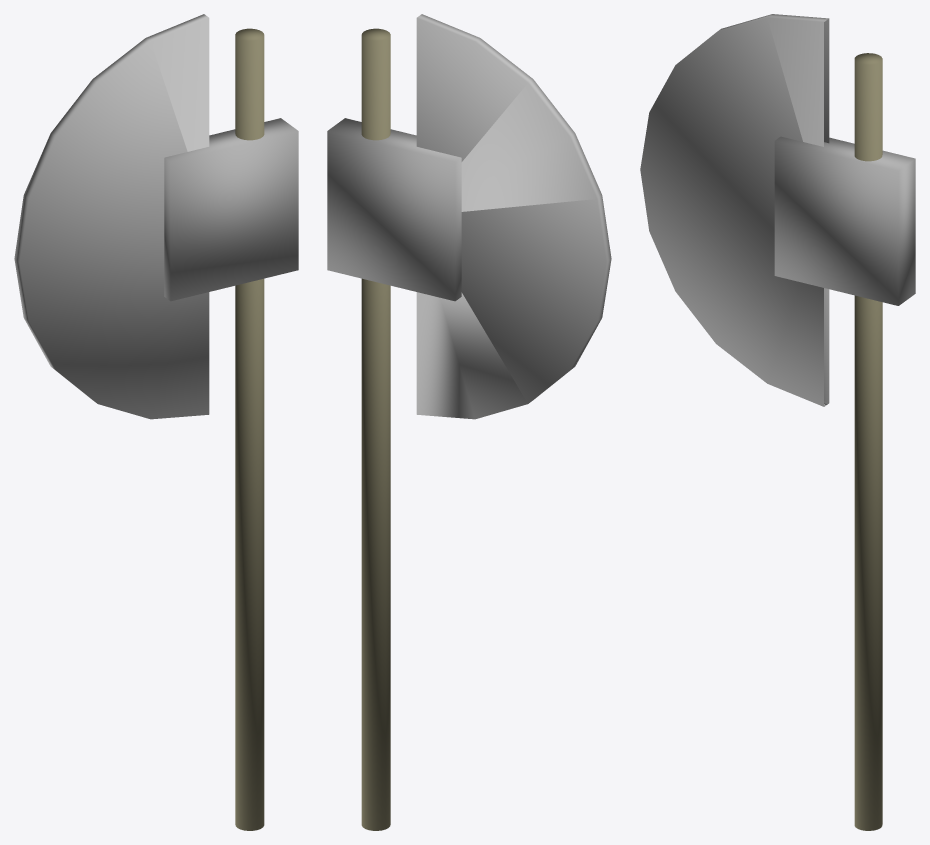
File: Axe.fbx
The picture shows the model from 3 angles, left to right: view 1: azimuth 30°, elevation 25°; view 2: azimuth 150°, elevation 25°; view 3: azimuth 330°, elevation 25°; orthographic projection. The views are drawn at different scales.
Parts seen in each view (by area): view 1: Brade, Brade2, Bou; view 2: Brade, Brade2, Bou; view 3: Brade, Brade2, Bou.
Boxes of the visible parts, x1,y1,x2,y2 form: Brade: [14, 14, 209, 419]; Brade2: [164, 118, 298, 301]; Bou: [235, 28, 264, 830]; Brade: [416, 14, 611, 419]; Brade2: [327, 118, 461, 301]; Bou: [361, 28, 390, 830]; Brade: [640, 14, 829, 406]; Brade2: [774, 136, 915, 305]; Bou: [854, 53, 882, 830].
Bounding box in the file's own units: 41.5 × 119 × 4.65.
